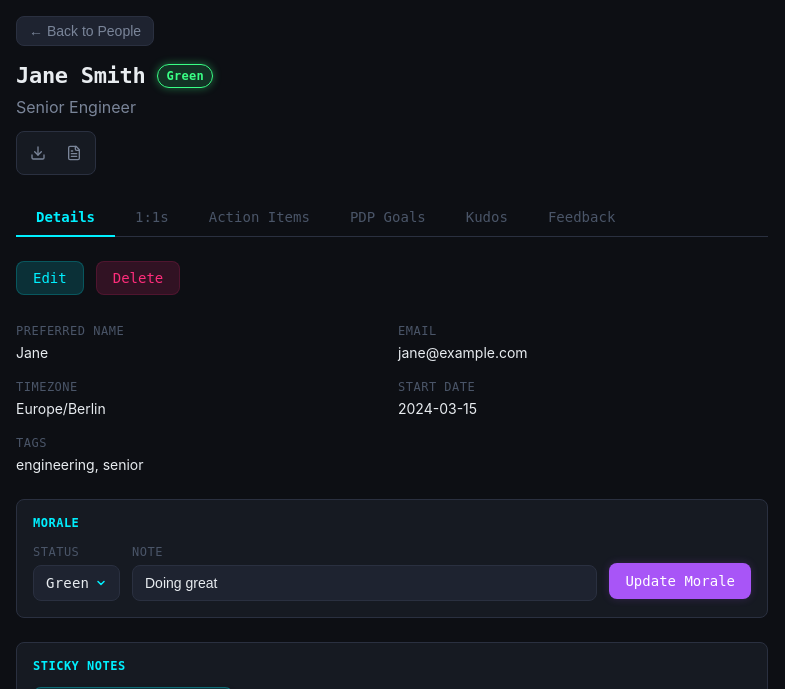
PersonDetailPage › should cancel delete when Cancel button is clicked
Click the button with test id "delete-button" at coordinates (138, 278), box [96,261,180,295]
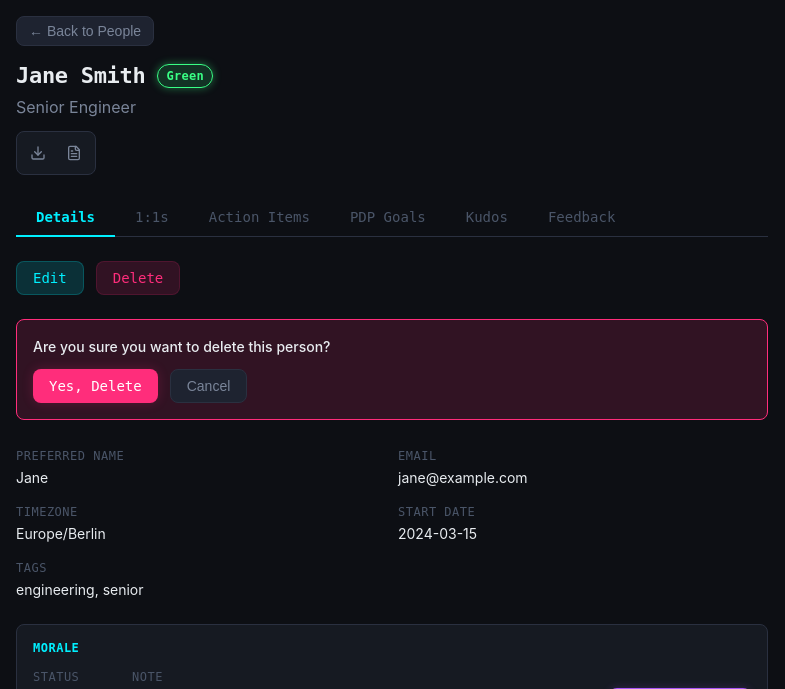
Expected: the element with test id "delete-confirmation" is shown, [16,319,768,420]
Click the button with test id "cancel-delete-button" at coordinates (208, 386), box [170,369,247,403]
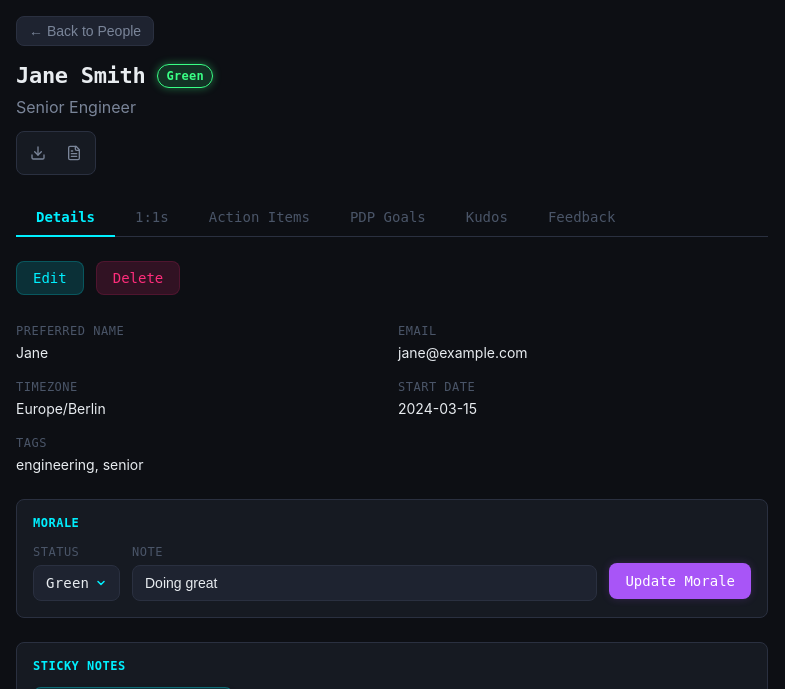
Expected: the element with test id "delete-confirmation" is gone
